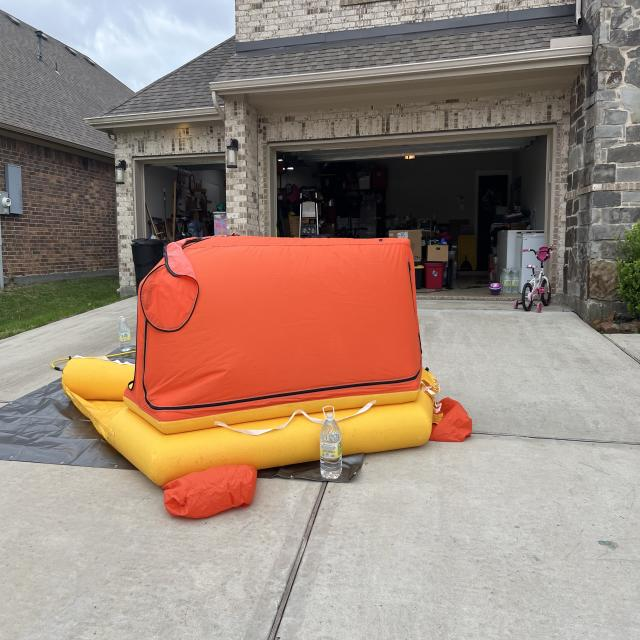Multi-person_life_raft: (60, 232, 472, 520)
